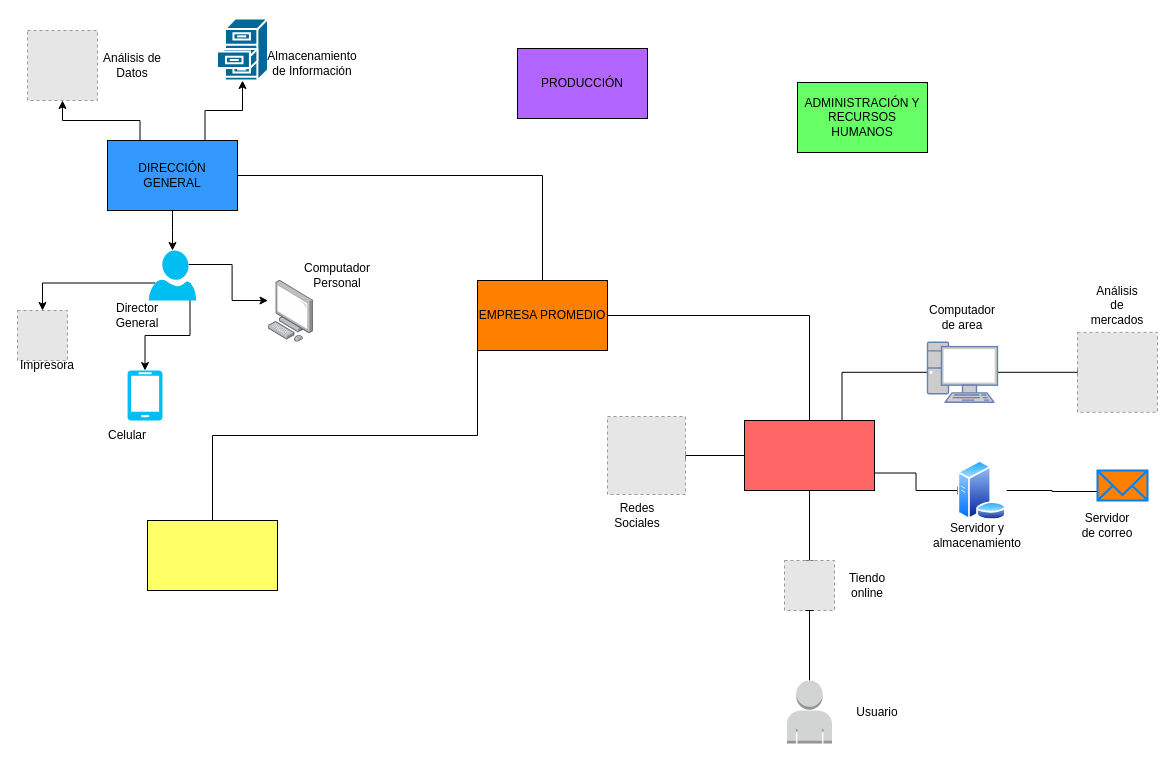
This 1175x761 diagram has some shape labels left out. Grey dashed boxes stand in for pictures. Each missing label, with the box of its shape:
FINANZAS Y CONTABILIDAD: (146, 520, 278, 590)
MARKETING: (744, 420, 874, 490)
